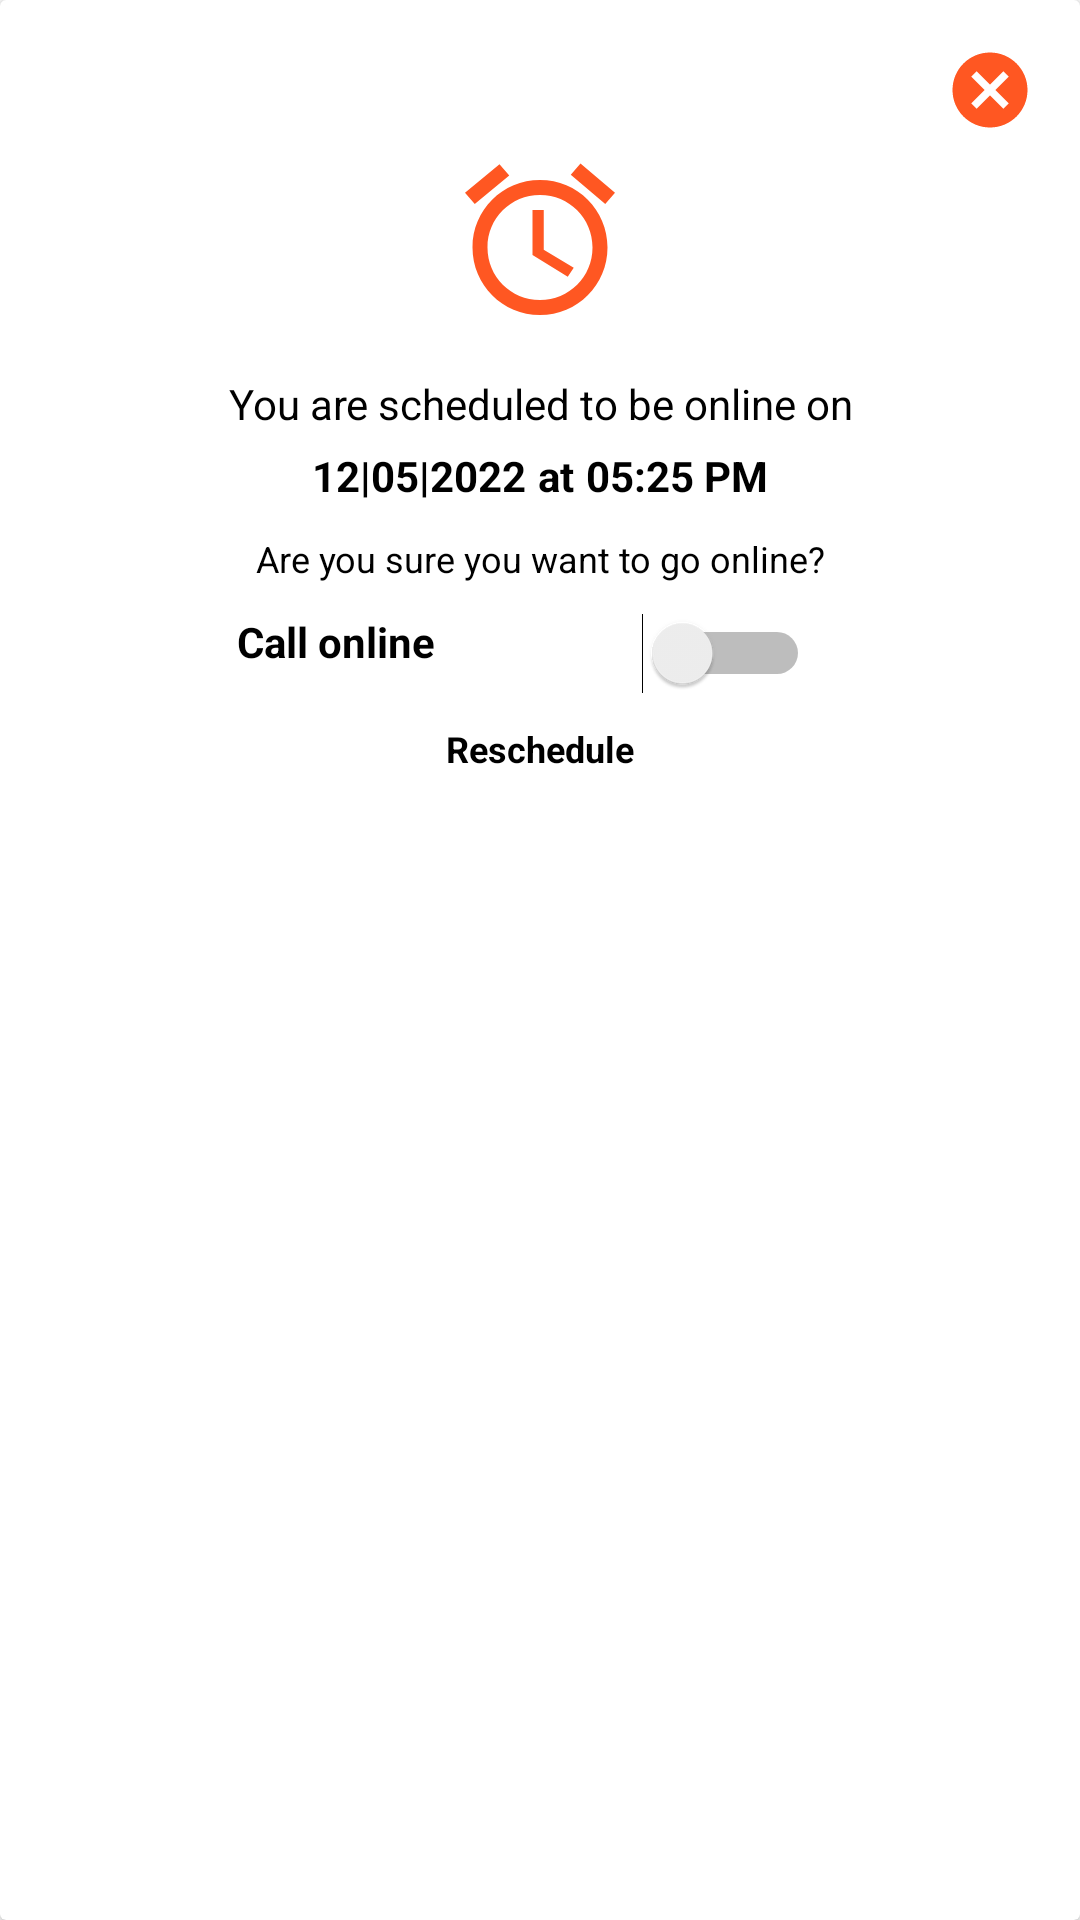

Named icons in this screenshot (1080px x 1920px) and their centers, [x,y]:
access alarms: [540,239]
cancel: [990,90]
